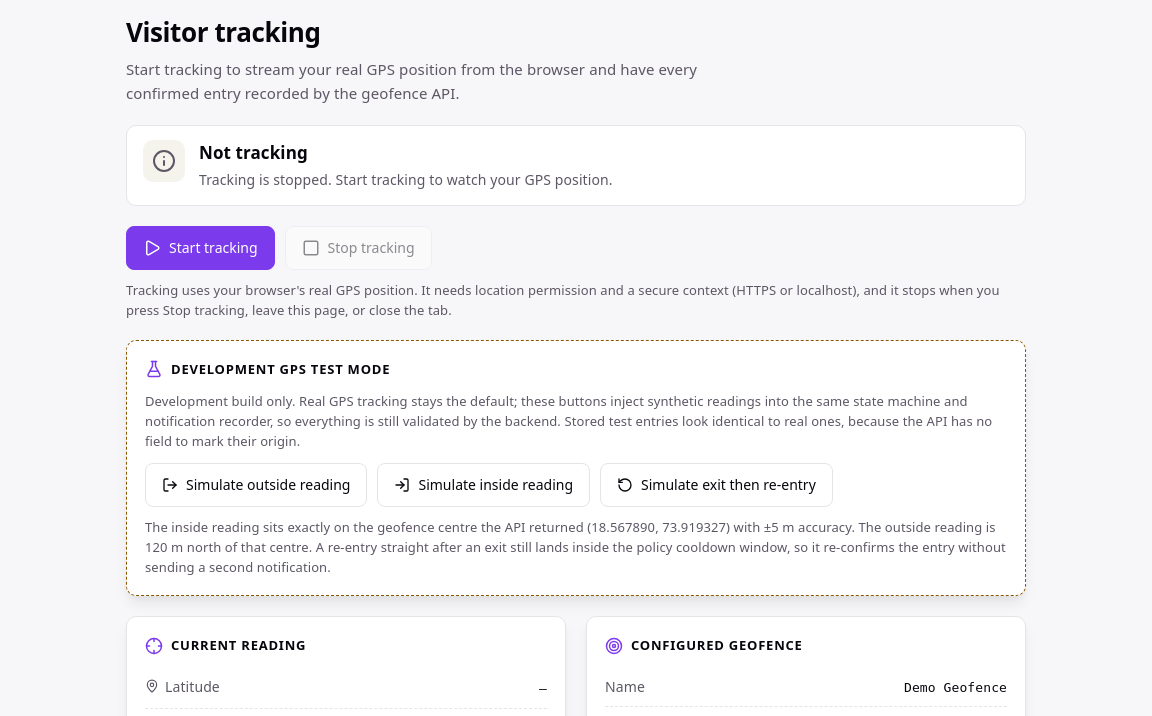
Test: VisitorTrackingPage › does not notify for a reading outside the radius
Click the button "Start tracking" at (200, 248), box [126,226,275,270]
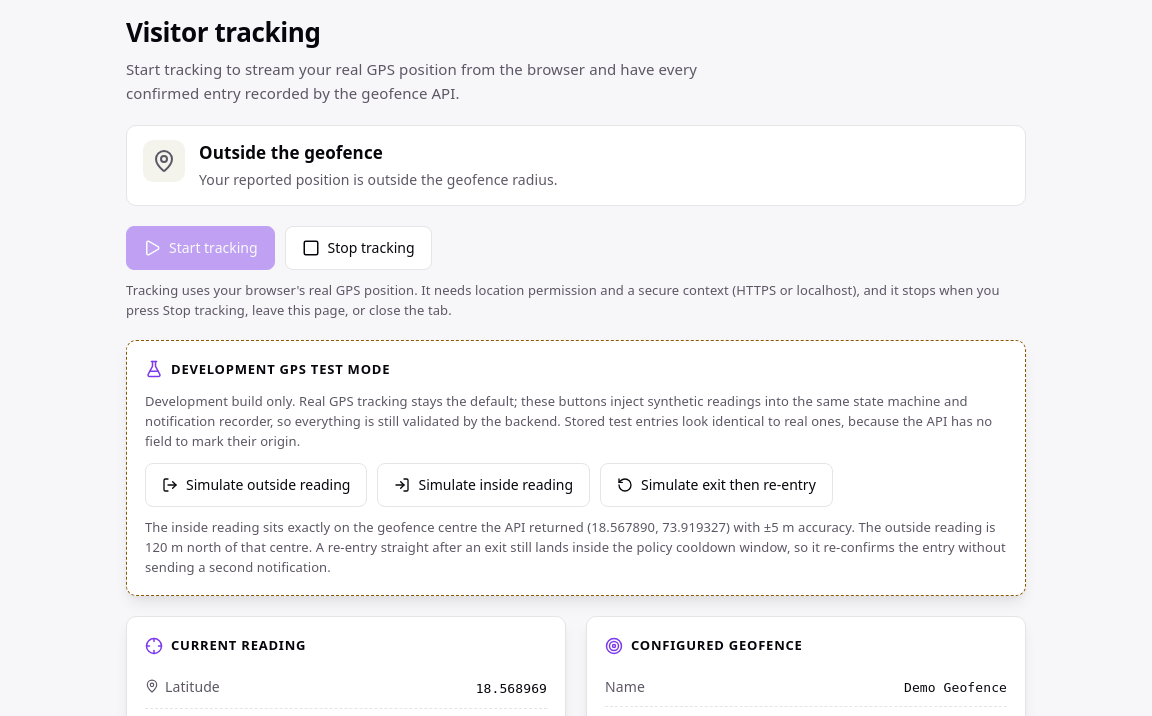
Expected: the text "Your reported position is outside the geofence radius." is shown, [199,169,558,191]
